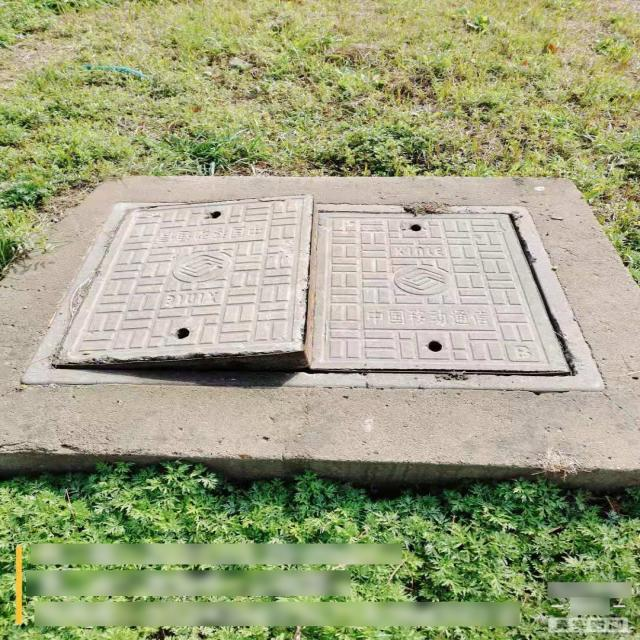Lose: (19, 202, 610, 394)
